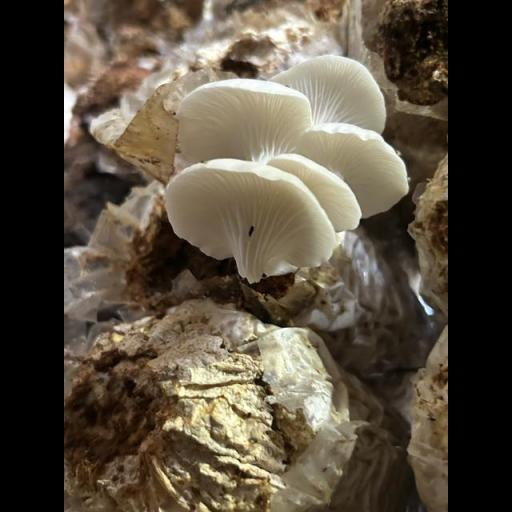White Oyster Mushroom: (164, 55, 408, 279)
